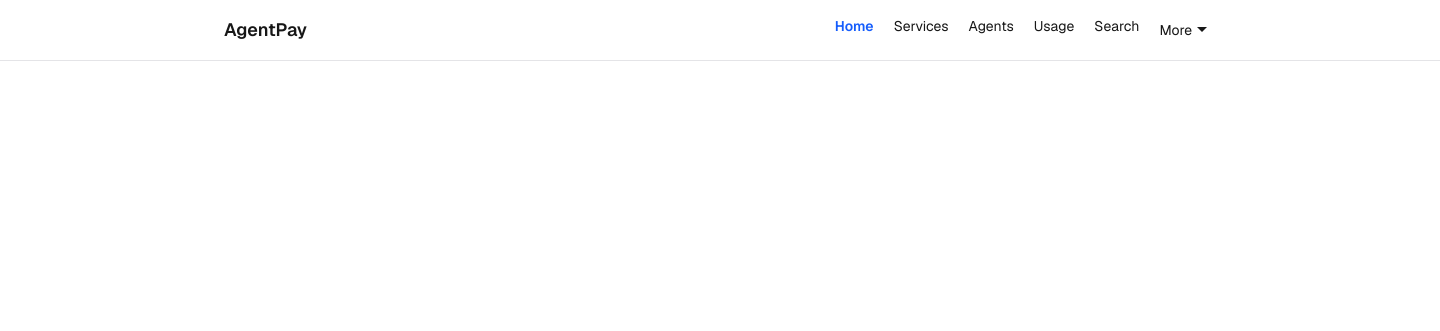
it: Header › closes the menu when a secondary link is clicked
Click the button "More" at (1184,30), box [1151, 16, 1216, 44]
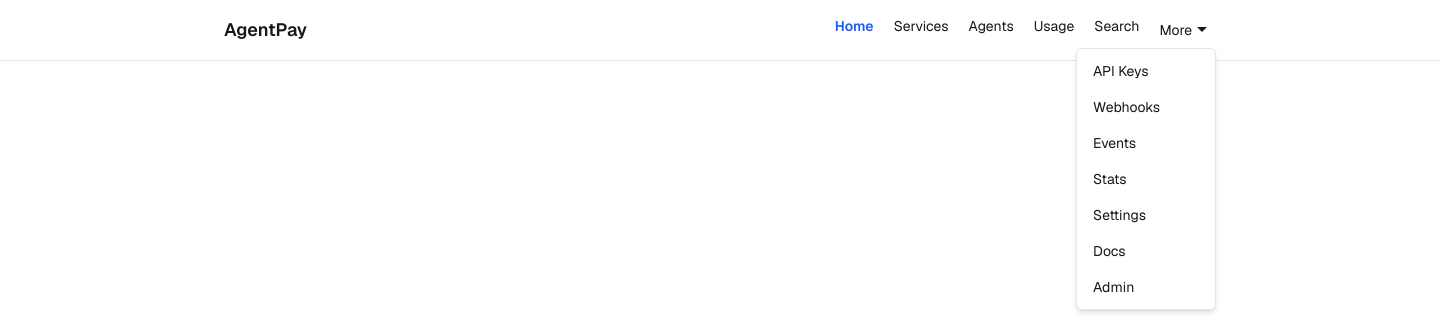
Click the menu item "Webhooks" at (1127,107), box [1093, 98, 1160, 116]
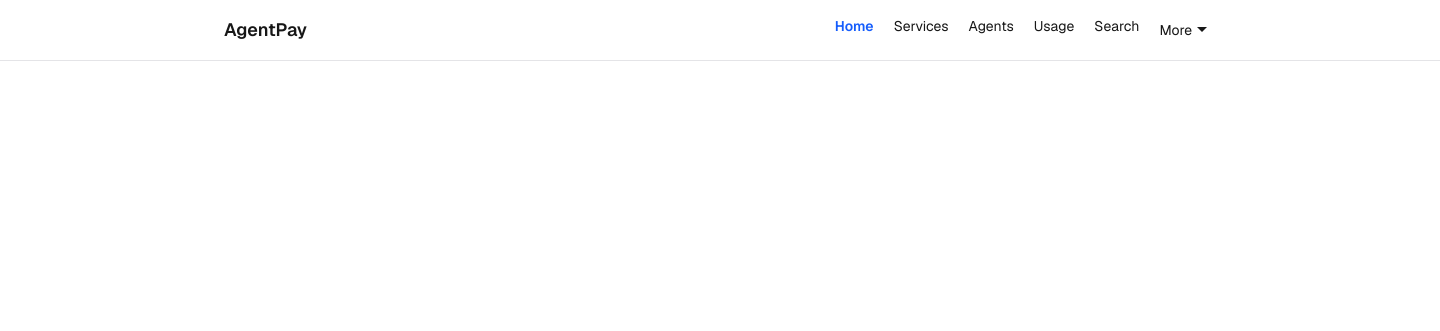
Now the menu is gone
